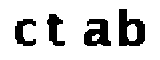a: (80, 17, 112, 52)
b: (116, 7, 150, 52)
c: (11, 18, 38, 49)
t: (45, 10, 67, 50)
